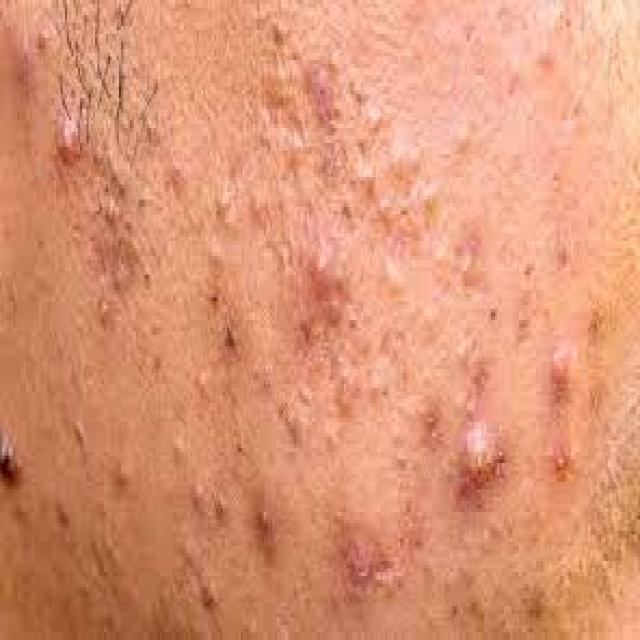Acne: (290, 230, 348, 363), (450, 410, 511, 512), (246, 474, 305, 574), (333, 523, 388, 605), (300, 42, 345, 133), (207, 280, 242, 368), (50, 99, 87, 180), (0, 418, 27, 499), (546, 334, 576, 404), (546, 431, 577, 494), (389, 131, 423, 183)
